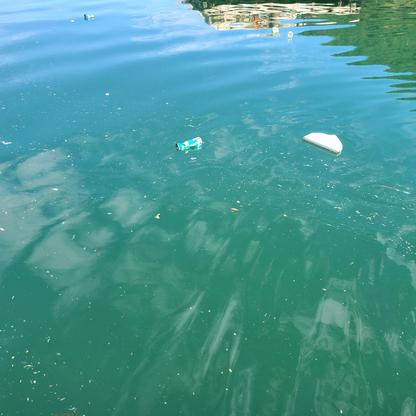can: (174, 135, 204, 152)
foam: (301, 131, 341, 154)
